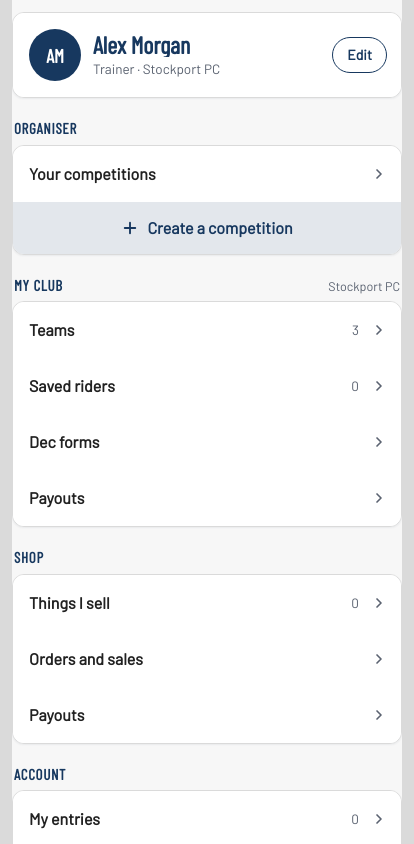
Test case: ProfilePage: my club › says so when there are no saved riders
Click the button "Saved riders 0" at (72, 386), box [13, 358, 401, 414]
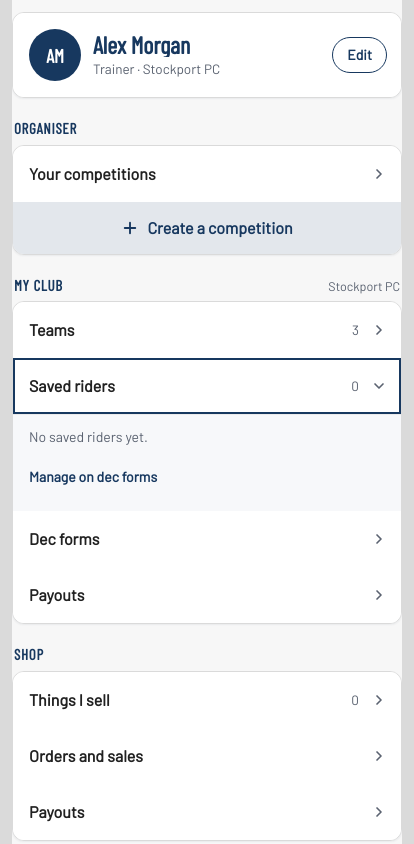
Now the text "No saved riders yet." is shown, box [29, 428, 148, 445]
